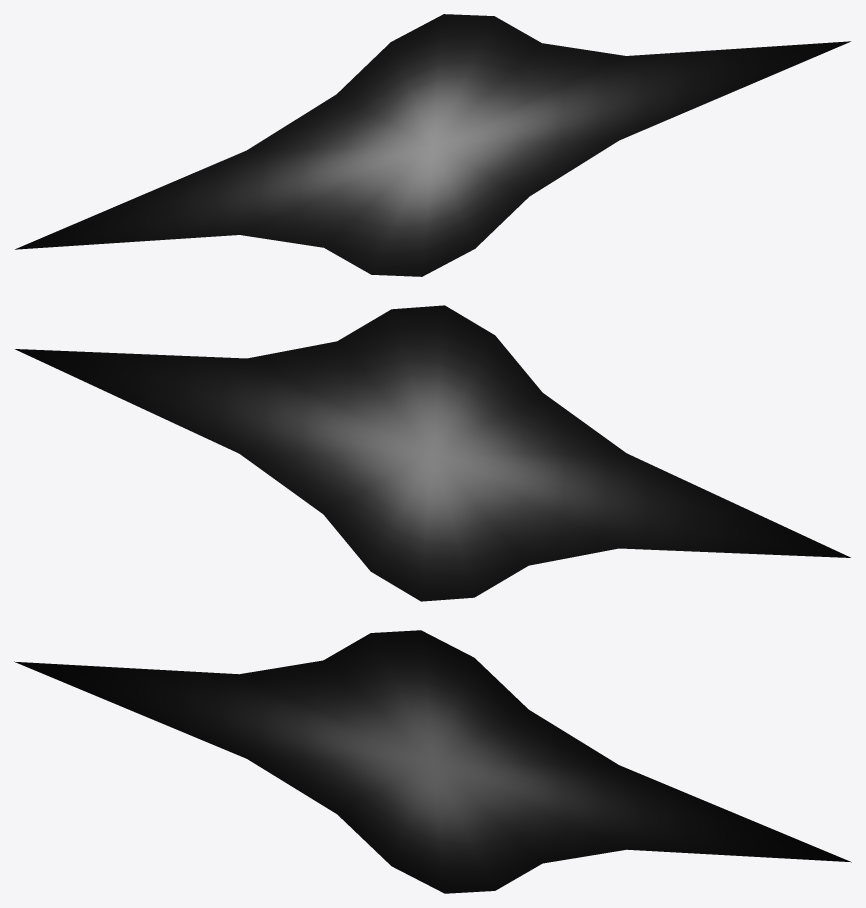
Rendered from teleboardWarp.glb.
3 views of the same model, one above another, from view 1: azimuth 30°, elevation 25°; view 2: azimuth 150°, elevation 25°; view 3: azimuth 330°, elevation 25° (orthographic).
Parts seen in each view (by area): view 1: teleboardWarp; view 2: teleboardWarp; view 3: teleboardWarp.
Boxes of the visible parts, x1,y1,x2,y2 form: teleboardWarp: (15,14,850,276); teleboardWarp: (15,305,850,601); teleboardWarp: (14,630,851,893).
Size of the model in its own units: 17.1 by 5.45 by 0.8023.
Materials: 1 (1 with a texture image).
